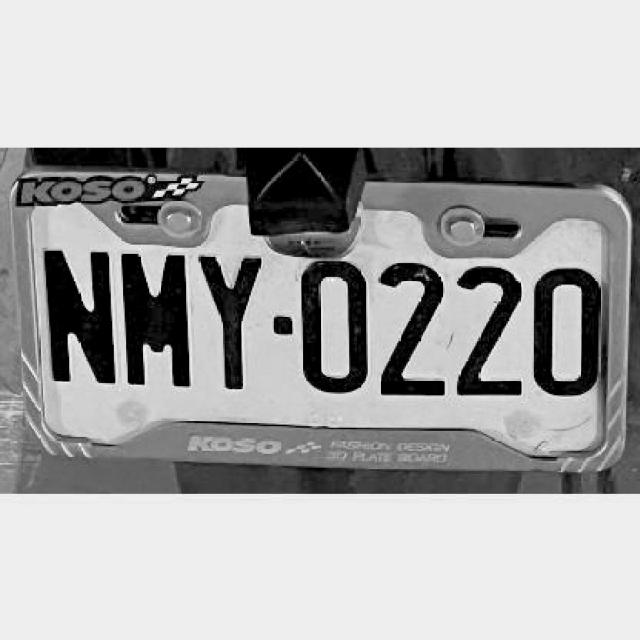-: (272, 317, 294, 337)
0: (298, 252, 369, 396), (532, 264, 602, 398)
2: (454, 260, 526, 402), (374, 257, 446, 398)
M: (115, 246, 191, 389)
N: (40, 243, 120, 385)
Y: (194, 249, 263, 394)
